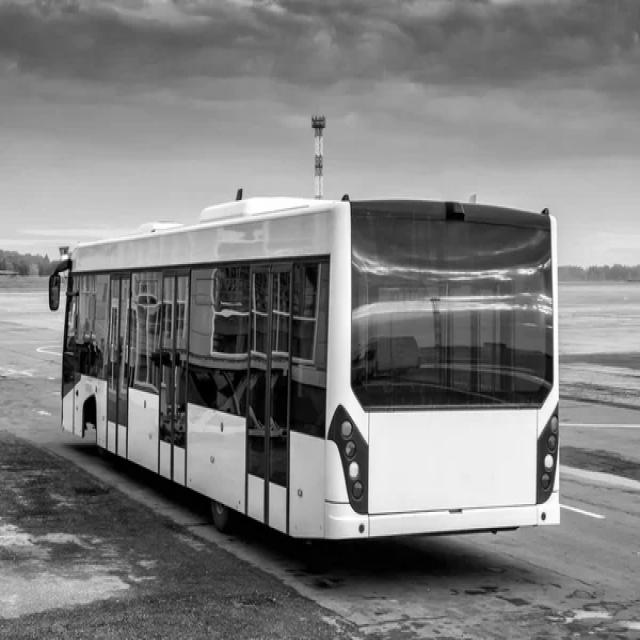Bus: (48, 195, 561, 540)
